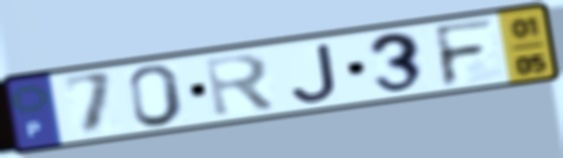0: (126, 63, 186, 129)
3: (365, 29, 432, 98)
7: (59, 71, 117, 139)
F: (430, 16, 499, 91)
J: (288, 40, 341, 104)
R: (201, 50, 281, 121)
